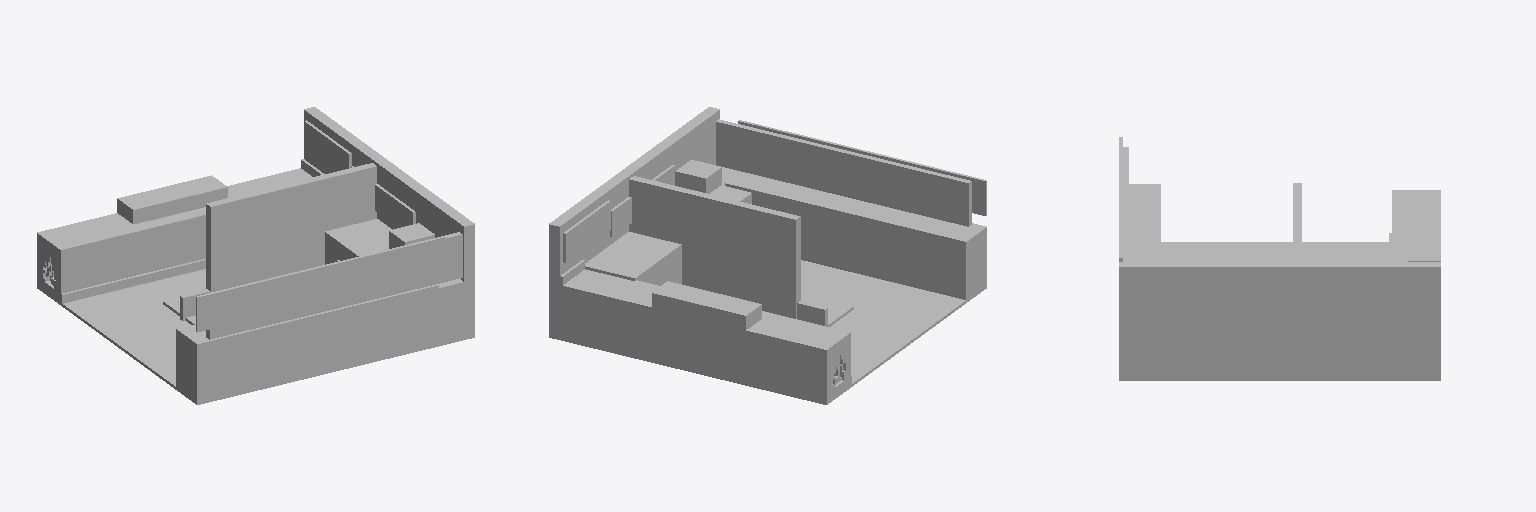
File: 道具店.obj
3 views of the same model, side by side, from view 1: azimuth 30°, elevation 25°; view 2: azimuth 150°, elevation 25°; view 3: azimuth 270°, elevation 25° (orthographic).
Size of the model in its own units: 100 by 39 by 100.